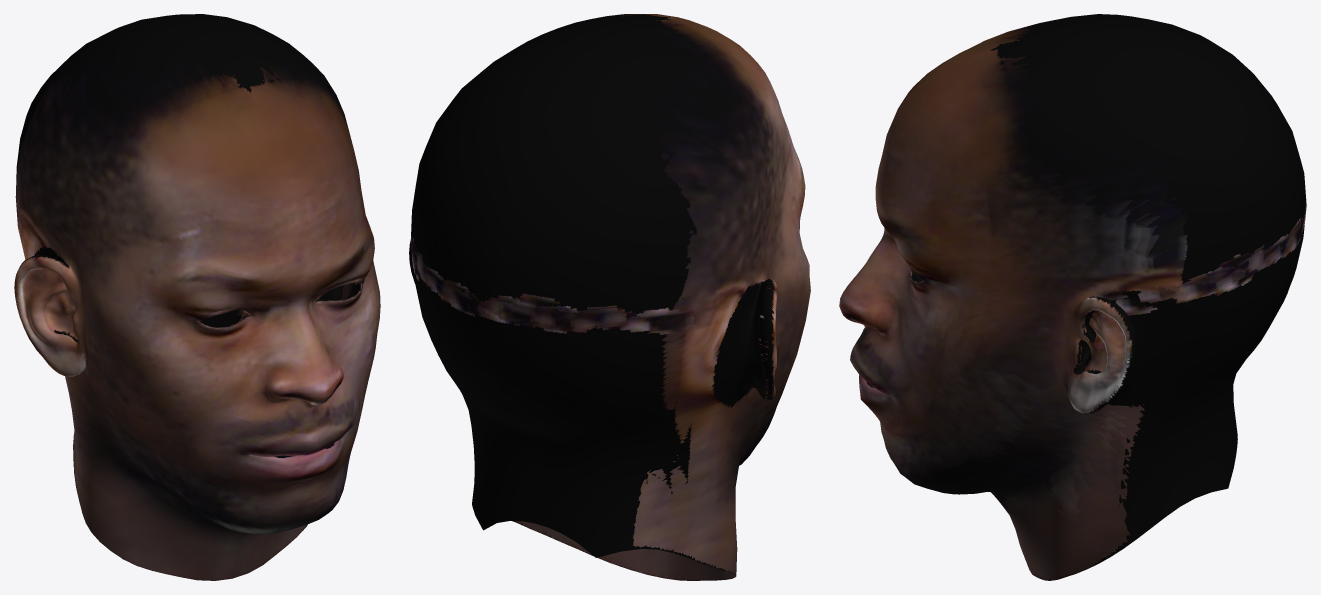
Rendered from Neutral.obj.
3 renders of one model, left to right at view 1: azimuth 30°, elevation 25°; view 2: azimuth 150°, elevation 25°; view 3: azimuth 270°, elevation 25°, orthographic. The views are drawn at different scales.
Size of the model in its own units: 191 by 281 by 224.
